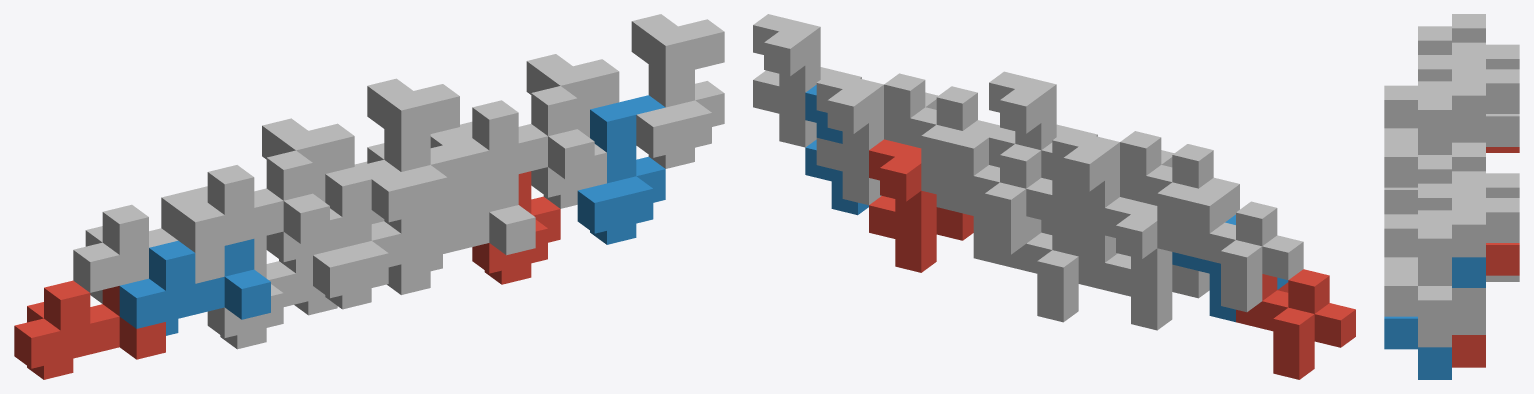
File: tiling.obj
3 renders of one model, left to right at view 1: azimuth 30°, elevation 25°; view 2: azimuth 150°, elevation 25°; view 3: azimuth 270°, elevation 25°, orthographic. The views are drawn at different scales.
Visible parts, largest first — view 1: copy_2_domain_8, copy_2_domain_4, copy_1_domain_4, copy_1_domain_8, copy_1_domain_2, copy_1_domain_1, copy_2_domain_6, copy_2_domain_2, copy_1_domain_3, copy_1_domain_6, copy_2_domain_7, copy_2_domain_3 (+4 smaller); view 2: copy_1_domain_3, copy_1_domain_7, copy_2_domain_1, copy_2_domain_5, copy_1_domain_4, copy_1_domain_1, copy_1_domain_8, copy_2_domain_8, copy_2_domain_3, copy_2_domain_7, copy_1_domain_5, copy_2_domain_4 (+4 smaller); view 3: copy_2_domain_8, copy_2_domain_4, copy_1_domain_4, copy_1_domain_8, copy_2_domain_7, copy_2_domain_6, copy_1_domain_3, copy_1_domain_7, copy_2_domain_5, copy_2_domain_3, copy_2_domain_2, copy_2_domain_1 (+2 smaller).
Part boxes in pixels (<box>): copy_2_domain_8: <box>631,14,724,168</box>; copy_2_domain_4: <box>367,78,459,233</box>; copy_1_domain_4: <box>178,150,329,252</box>; copy_1_domain_8: <box>443,86,594,188</box>; copy_1_domain_2: <box>119,239,270,335</box>; copy_1_domain_1: <box>14,280,165,379</box>; copy_2_domain_6: <box>577,95,665,244</box>; copy_2_domain_2: <box>313,160,401,309</box>; copy_1_domain_3: <box>73,190,224,303</box>; copy_1_domain_6: <box>401,174,535,271</box>; copy_2_domain_7: <box>526,54,619,208</box>; copy_2_domain_3: <box>262,118,354,273</box>; copy_1_domain_3: <box>1183,188,1303,312</box>; copy_1_domain_7: <box>947,131,1052,254</box>; copy_2_domain_1: <box>1105,197,1209,330</box>; copy_2_domain_5: <box>869,139,973,272</box>; copy_1_domain_4: <box>1120,131,1239,254</box>; copy_1_domain_1: <box>1236,269,1355,379</box>; copy_1_domain_8: <box>884,73,1001,196</box>; copy_2_domain_8: <box>753,14,861,147</box>; copy_2_domain_3: <box>1052,129,1119,262</box>; copy_2_domain_7: <box>816,71,883,205</box>; copy_1_domain_5: <box>1000,216,1104,322</box>; copy_2_domain_4: <box>989,71,1097,167</box>; copy_2_domain_8: <box>1384,210,1485,347</box>; copy_2_domain_4: <box>1384,81,1485,187</box>; copy_1_domain_4: <box>1384,26,1485,128</box>; copy_1_domain_8: <box>1384,155,1485,257</box>; copy_2_domain_7: <box>1452,198,1519,334</box>; copy_2_domain_6: <box>1384,257,1485,379</box>; copy_1_domain_3: <box>1452,14,1519,69</box>; copy_1_domain_7: <box>1452,142,1519,197</box>; copy_2_domain_5: <box>1452,243,1519,367</box>; copy_2_domain_3: <box>1452,69,1519,128</box>; copy_2_domain_2: <box>1384,128,1485,214</box>; copy_2_domain_1: <box>1486,114,1519,146</box>.
Bounding box in the file's own units: 23 × 7 × 4.
